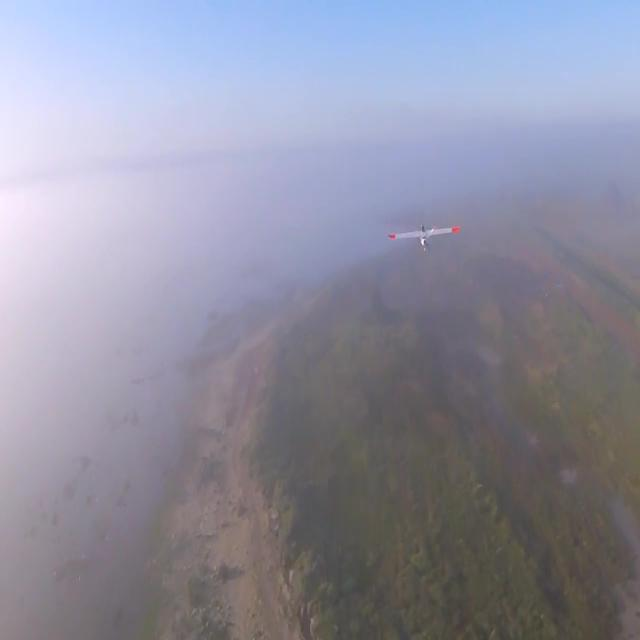iha: (420, 221, 425, 253)
